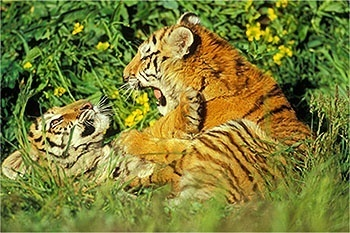tigre: (10, 102, 299, 216), (123, 10, 304, 133)
